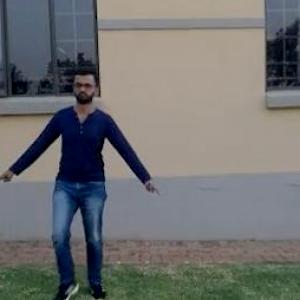land: (0, 72, 167, 299)
